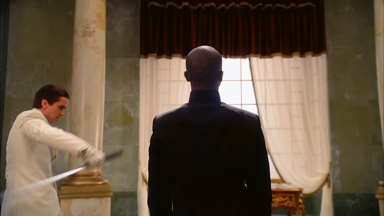bladed_weapon: (3, 147, 123, 206)
